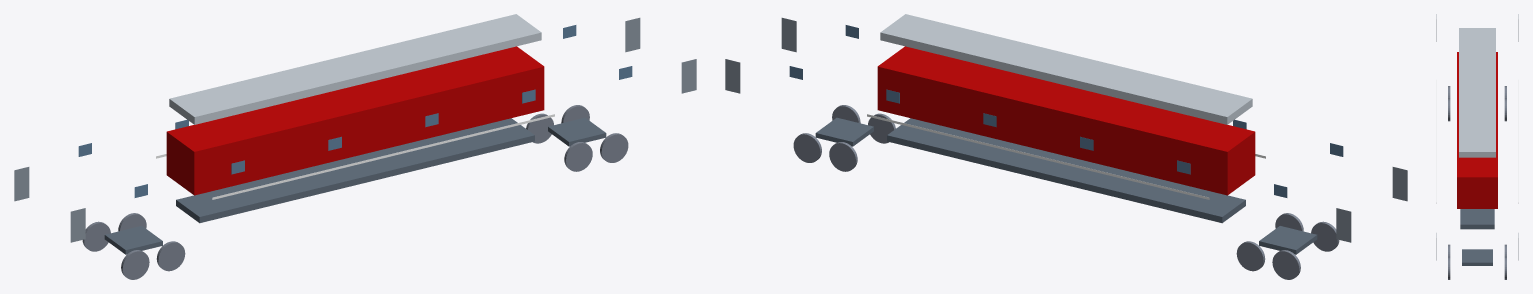
File: LHB_FirstAC.glb
3 renders of one model, left to right at view 1: azimuth 30°, elevation 25°; view 2: azimuth 150°, elevation 25°; view 3: azimuth 270°, elevation 25°, orthographic. The views are drawn at different scales.
Visible parts, largest first — view 1: LHB_FirstAC; view 2: LHB_FirstAC; view 3: LHB_FirstAC.
Boxes of the visible parts, x1,y1,x2,y2 form: LHB_FirstAC: (14, 14, 696, 279); LHB_FirstAC: (725, 14, 1407, 279); LHB_FirstAC: (1436, 14, 1518, 279).
Bounding box in the file's own units: 21.04 × 4.53 × 3.29.
